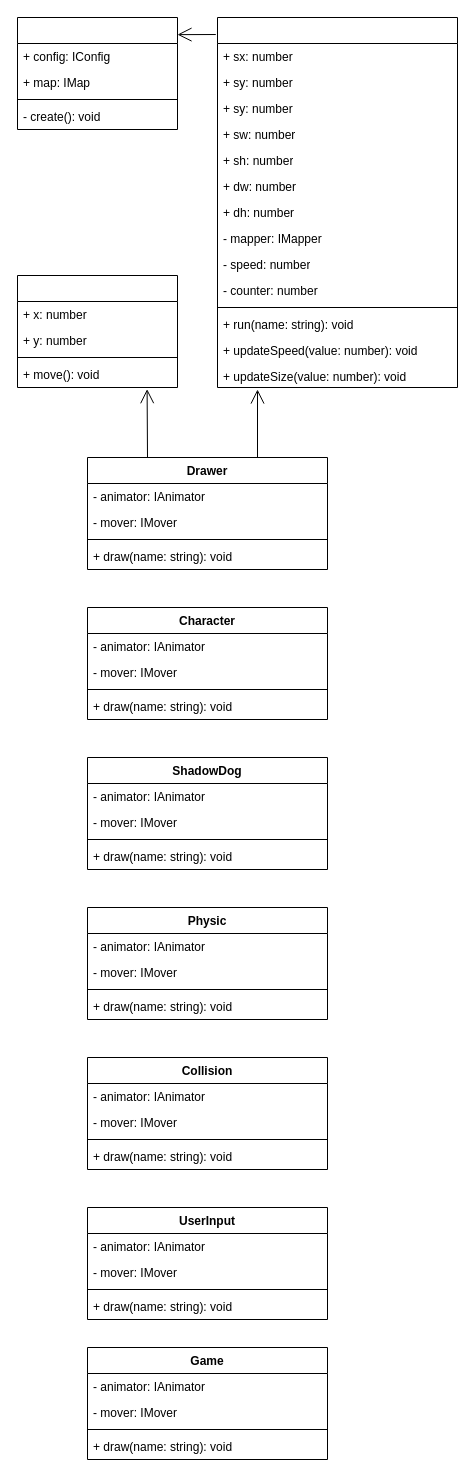
The diagram is 475 pixels wide and 1480 high, and some of its shapes have lost their labels. The box of each missing label's shape, as (x1, y1, x2, y2) in pixels:
Animator: (216, 16, 458, 388)
Maper: (16, 16, 178, 130)
Mover: (16, 274, 178, 388)
